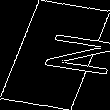N_W: (9, 29, 101, 81)
